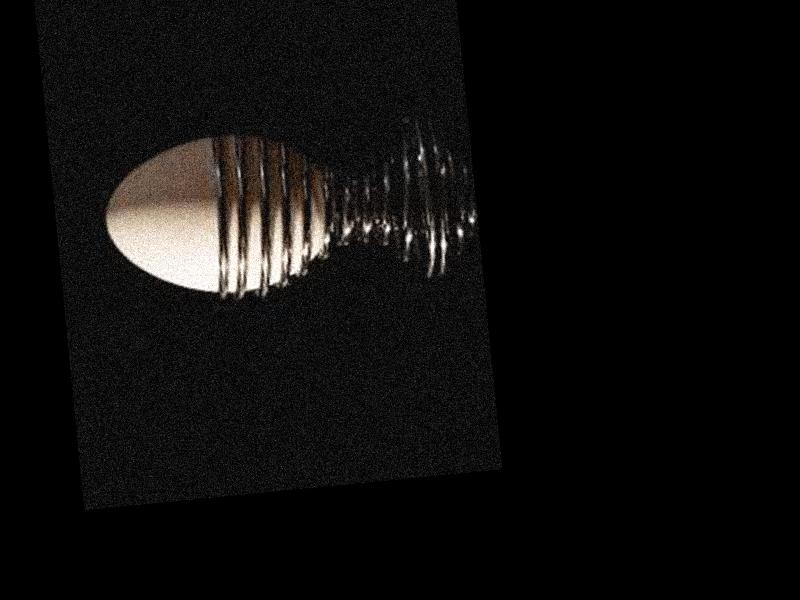Eggs: (97, 127, 334, 305)
